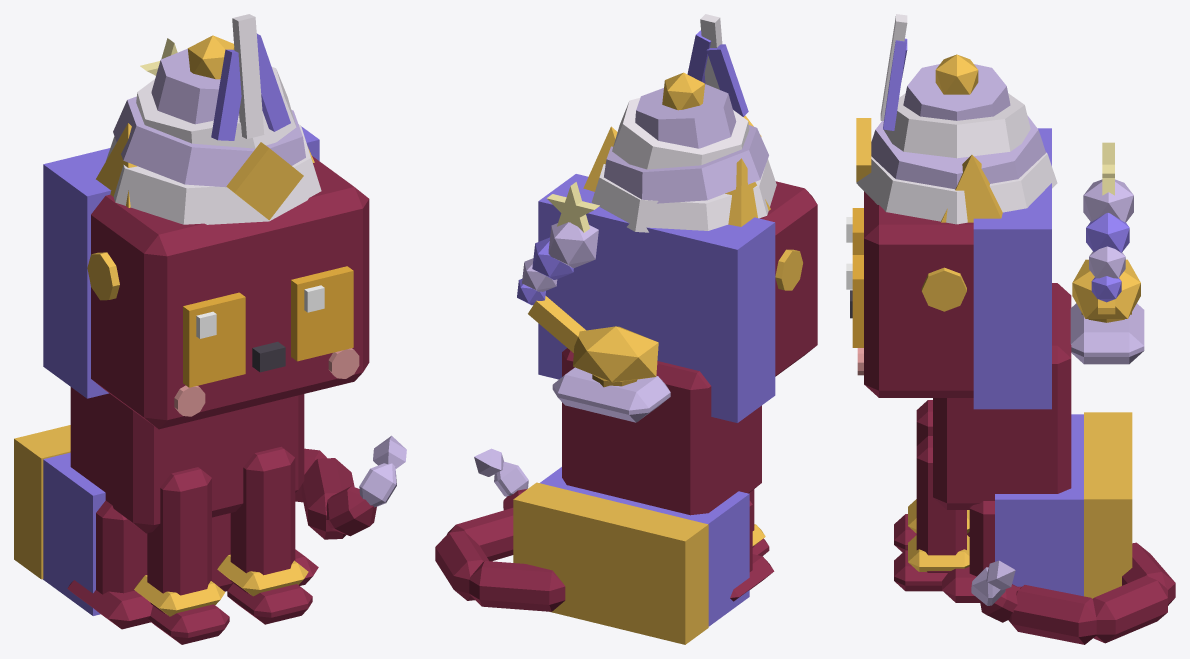
Rendered from CleanACat_Cat_Djinn_Sit_Lite.fbx.
3 renders of one model, left to right at view 1: azimuth 30°, elevation 25°; view 2: azimuth 150°, elevation 25°; view 3: azimuth 270°, elevation 25°, orthographic. The views are drawn at different scales.
Parts seen in each view (by area): view 1: CleanACat_Cat_Djinn_Sit_Lite_Head, CleanACat_Cat_Djinn_Sit_Lite_Body, CleanACat_Cat_Djinn_Sit_Lite_Prop, CleanACat_Cat_Djinn_Sit_Lite_LegF1, CleanACat_Cat_Djinn_Sit_Lite_LegF2, CleanACat_Cat_Djinn_Sit_Lite_Tail, CleanACat_Cat_Djinn_Sit_Lite_Eye1, CleanACat_Cat_Djinn_Sit_Lite_Eye2, CleanACat_Cat_Djinn_Sit_Lite_EarR; view 2: CleanACat_Cat_Djinn_Sit_Lite_Body, CleanACat_Cat_Djinn_Sit_Lite_Head, CleanACat_Cat_Djinn_Sit_Lite_Prop, CleanACat_Cat_Djinn_Sit_Lite_Prop2, CleanACat_Cat_Djinn_Sit_Lite_Tail, CleanACat_Cat_Djinn_Sit_Lite_EarR, CleanACat_Cat_Djinn_Sit_Lite_EarL, CleanACat_Cat_Djinn_Sit_Lite_LegF2; view 3: CleanACat_Cat_Djinn_Sit_Lite_Body, CleanACat_Cat_Djinn_Sit_Lite_Head, CleanACat_Cat_Djinn_Sit_Lite_Prop, CleanACat_Cat_Djinn_Sit_Lite_Prop2, CleanACat_Cat_Djinn_Sit_Lite_Tail, CleanACat_Cat_Djinn_Sit_Lite_LegF1, CleanACat_Cat_Djinn_Sit_Lite_EarL, CleanACat_Cat_Djinn_Sit_Lite_LegF2, CleanACat_Cat_Djinn_Sit_Lite_Eye1, CleanACat_Cat_Djinn_Sit_Lite_Eye2.
Boxes of the visible parts, x1,y1,x2,y2 form: CleanACat_Cat_Djinn_Sit_Lite_Head: [43, 126, 369, 429]; CleanACat_Cat_Djinn_Sit_Lite_Body: [14, 387, 318, 629]; CleanACat_Cat_Djinn_Sit_Lite_Prop: [87, 14, 321, 300]; CleanACat_Cat_Djinn_Sit_Lite_LegF1: [217, 446, 312, 624]; CleanACat_Cat_Djinn_Sit_Lite_LegF2: [134, 467, 229, 644]; CleanACat_Cat_Djinn_Sit_Lite_Tail: [295, 435, 406, 539]; CleanACat_Cat_Djinn_Sit_Lite_Eye1: [291, 266, 353, 361]; CleanACat_Cat_Djinn_Sit_Lite_Eye2: [183, 292, 245, 387]; CleanACat_Cat_Djinn_Sit_Lite_EarR: [96, 123, 136, 207]; CleanACat_Cat_Djinn_Sit_Lite_Body: [513, 348, 774, 644]; CleanACat_Cat_Djinn_Sit_Lite_Head: [538, 174, 817, 422]; CleanACat_Cat_Djinn_Sit_Lite_Prop: [591, 14, 802, 290]; CleanACat_Cat_Djinn_Sit_Lite_Prop2: [517, 182, 670, 422]; CleanACat_Cat_Djinn_Sit_Lite_Tail: [435, 448, 565, 611]; CleanACat_Cat_Djinn_Sit_Lite_EarR: [725, 158, 770, 226]; CleanACat_Cat_Djinn_Sit_Lite_EarL: [583, 126, 617, 191]; CleanACat_Cat_Djinn_Sit_Lite_LegF2: [749, 489, 769, 556]; CleanACat_Cat_Djinn_Sit_Lite_Body: [933, 283, 1132, 602]; CleanACat_Cat_Djinn_Sit_Lite_Head: [850, 128, 1051, 409]; CleanACat_Cat_Djinn_Sit_Lite_Prop: [856, 14, 1057, 311]; CleanACat_Cat_Djinn_Sit_Lite_Prop2: [1070, 142, 1144, 364]; CleanACat_Cat_Djinn_Sit_Lite_Tail: [971, 542, 1175, 644]; CleanACat_Cat_Djinn_Sit_Lite_LegF1: [894, 436, 969, 591]; CleanACat_Cat_Djinn_Sit_Lite_EarL: [941, 155, 1002, 222]; CleanACat_Cat_Djinn_Sit_Lite_LegF2: [894, 400, 969, 552]; CleanACat_Cat_Djinn_Sit_Lite_Eye1: [846, 255, 863, 347]; CleanACat_Cat_Djinn_Sit_Lite_Eye2: [846, 208, 863, 254].
Bounding box in the file's own units: 1.3 × 2.28 × 1.24.
Materials: 1 (1 with a texture image).
